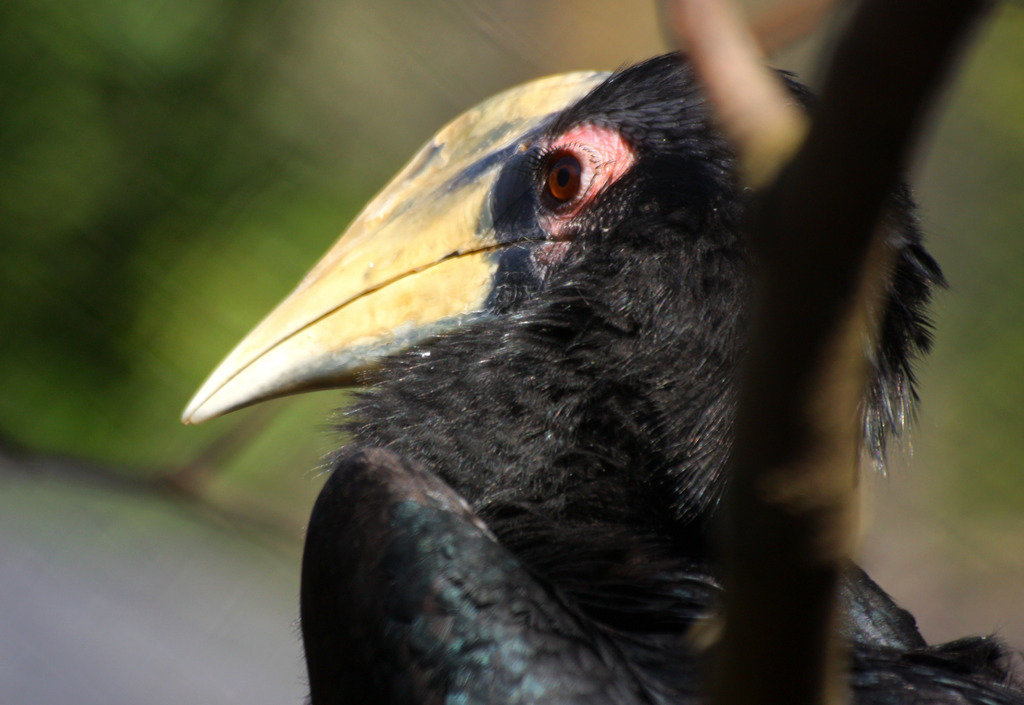Bird: (181, 49, 1024, 705)
